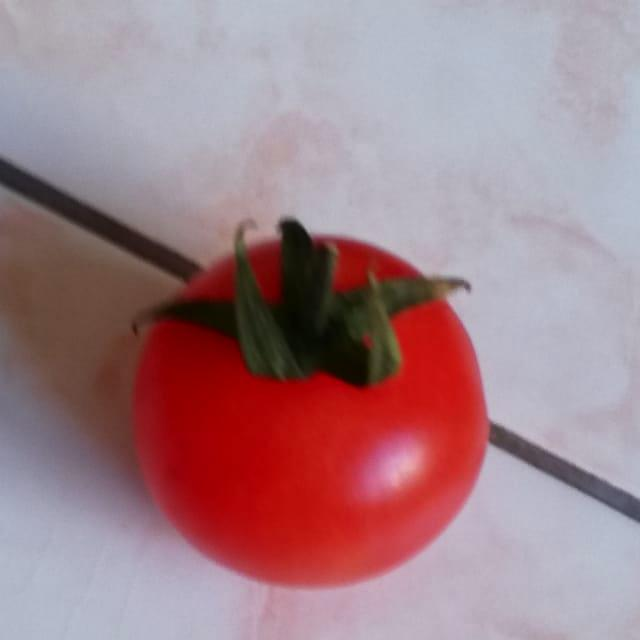tomato: (109, 179, 509, 616)
